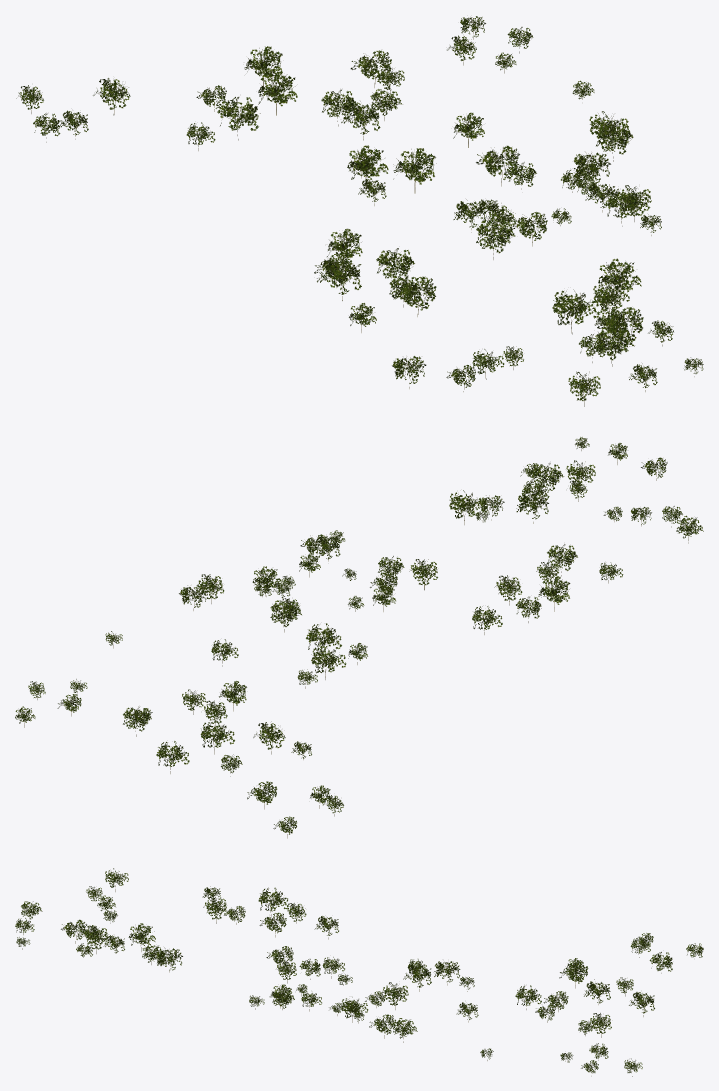
Rendered from TreeGroup1.fbx.
3 renders of one model, top to bottom at view 1: azimuth 30°, elevation 25°; view 2: azimuth 150°, elevation 25°; view 3: azimuth 270°, elevation 25°, orthographic. The views are drawn at different scales.
Visible parts, largest first — view 1: Tree2LOD0.033; view 2: Tree2LOD0.033; view 3: Tree2LOD0.033.
Part boxes in pixels (bbox=[...]): Tree2LOD0.033: bbox=[16, 16, 703, 406]; Tree2LOD0.033: bbox=[15, 437, 703, 838]; Tree2LOD0.033: bbox=[15, 868, 703, 1076].
Size of the model in its own units: 6293 by 1387 by 11426.
